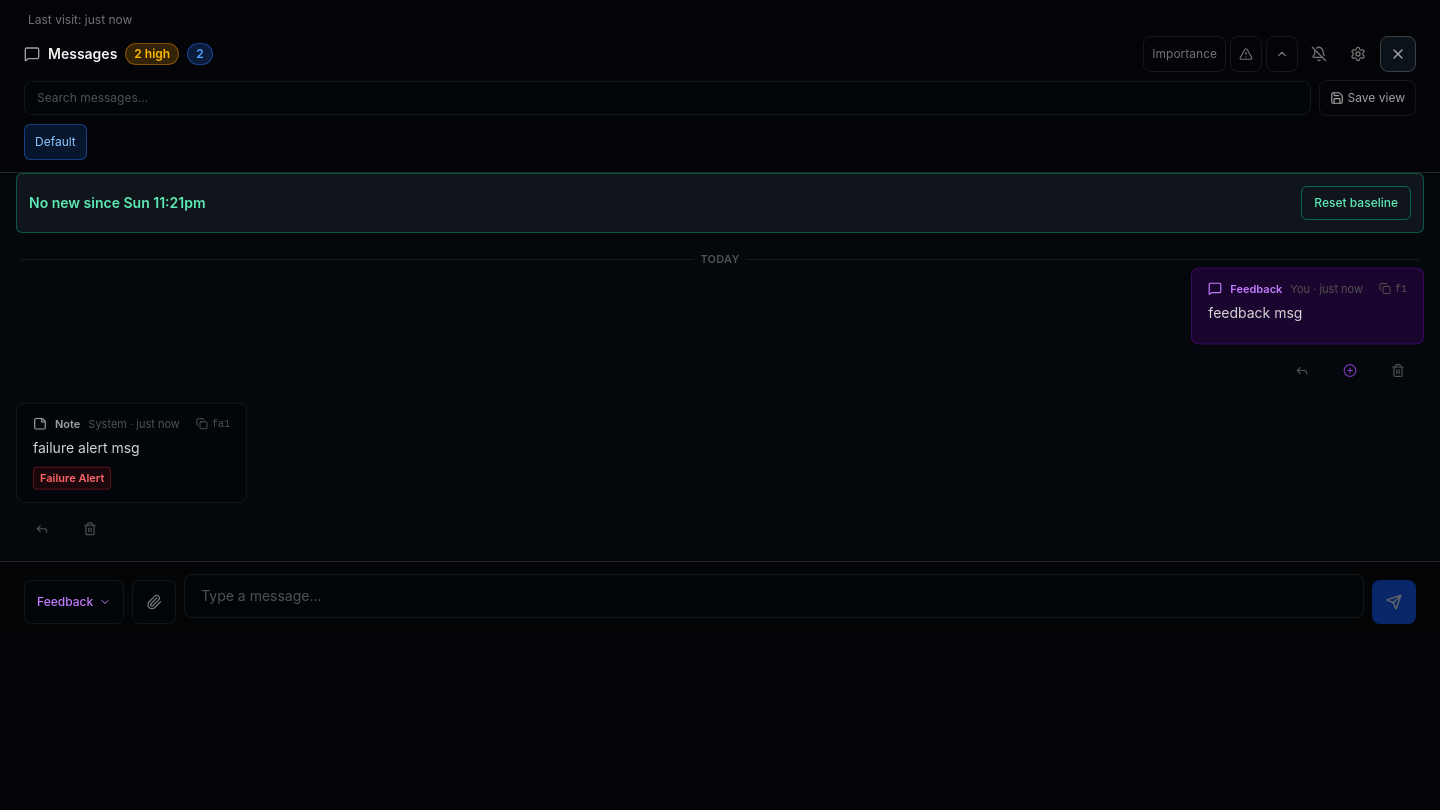
Test case: MessagesPanel critical-only severity filter › critical-only filter shows critical NOTEs (failure_alert)
// Toggle critical-only
Click the button named "Critical only (BLOCKER, BUG, critical NOTEs)" at (1246, 54), box [1230,36,1262,72]
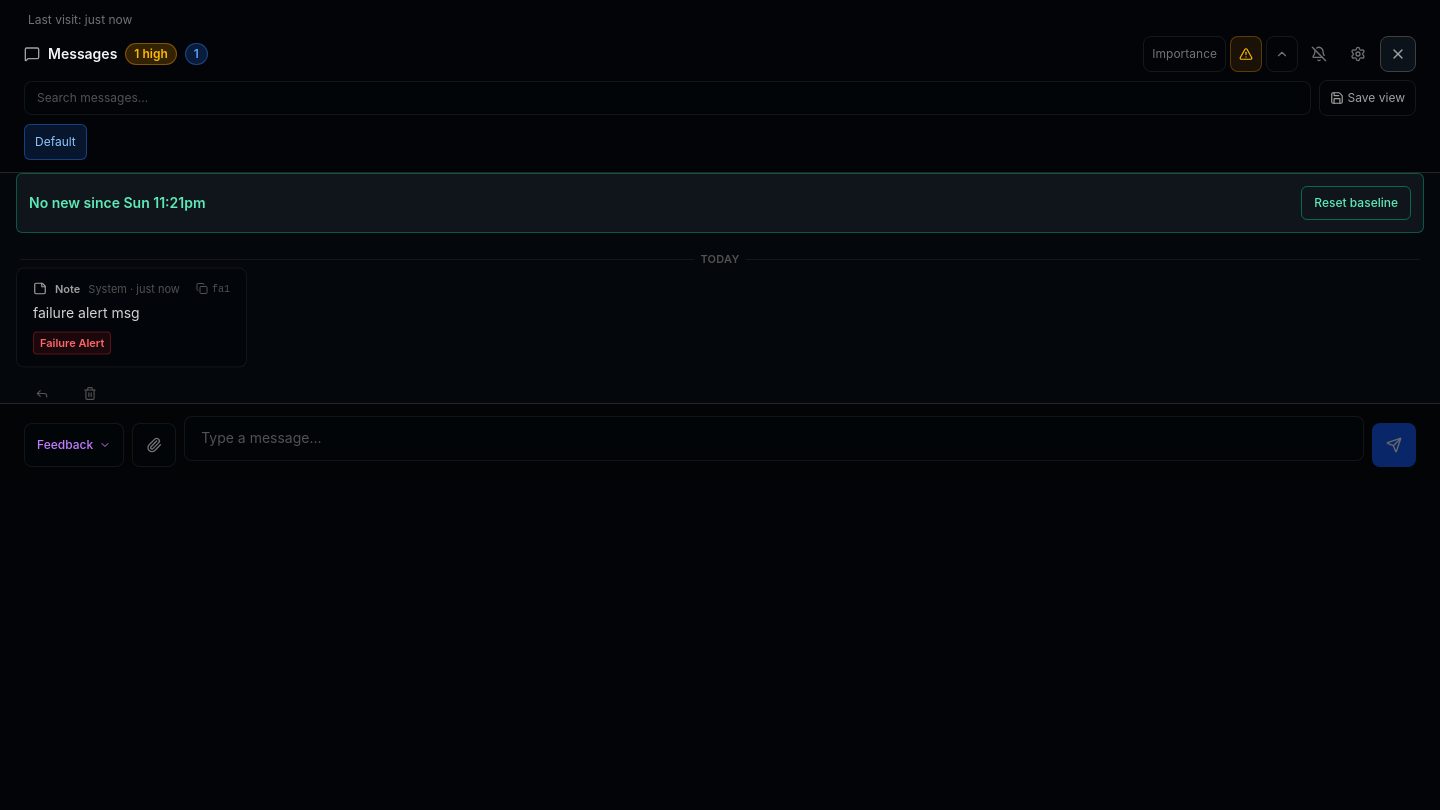
Expected: the text "failure alert msg" is shown, [33,303,140,320]
Result: the text "feedback msg" is gone
